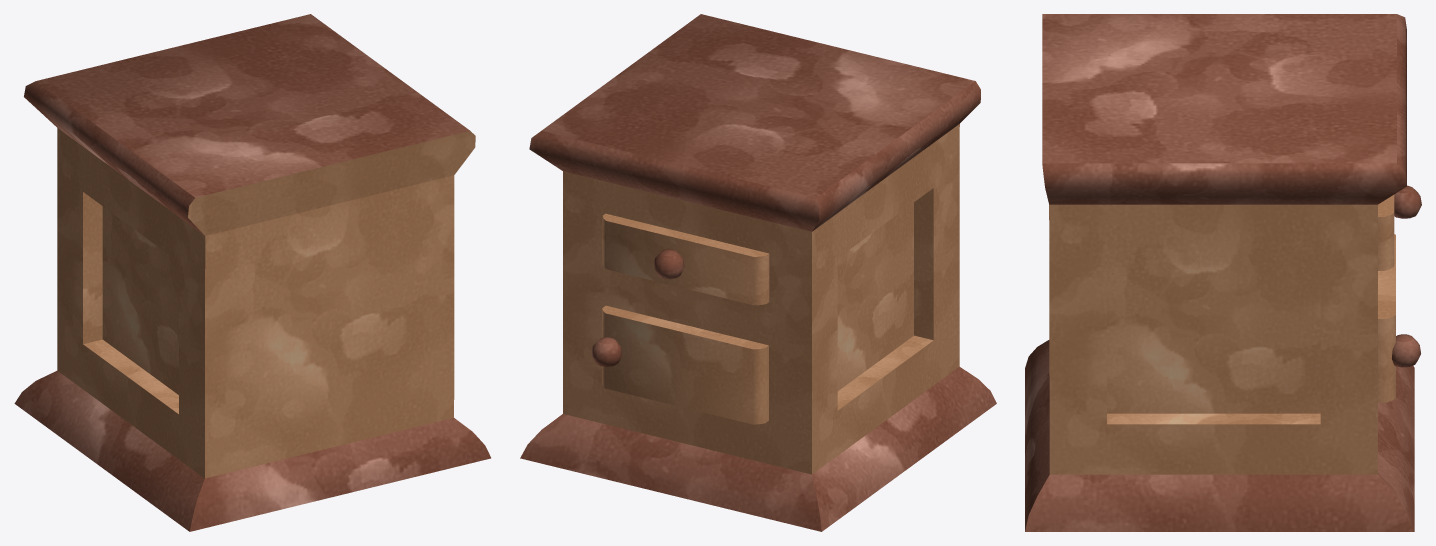
File: SM_Little_Dresser.fbx
3 renders of one model, left to right at view 1: azimuth 30°, elevation 25°; view 2: azimuth 150°, elevation 25°; view 3: azimuth 270°, elevation 25°, orthographic. The views are drawn at different scales.
Visible parts, largest first — view 1: SM_Little_Dresser; view 2: SM_Little_Dresser; view 3: SM_Little_Dresser.
Boxes of the visible parts, x1=… form: SM_Little_Dresser: x1=14, y1=14, x2=490, y2=531; SM_Little_Dresser: x1=520, y1=14, x2=996, y2=531; SM_Little_Dresser: x1=1025, y1=14, x2=1421, y2=531.
Size of the model in its own units: 96.77 by 99.64 by 99.15.
Materials: 1 (1 with a texture image).
